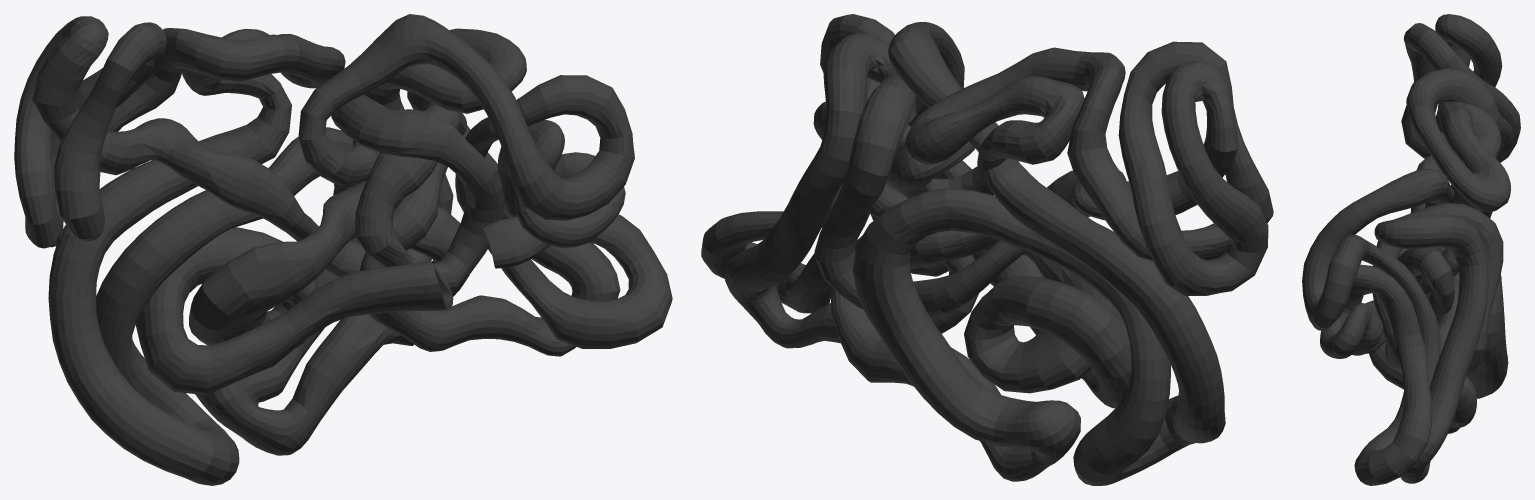
File: jejunum_LP.glb
3 views of the same model, side by side, from view 1: azimuth 30°, elevation 25°; view 2: azimuth 150°, elevation 25°; view 3: azimuth 270°, elevation 25° (orthographic). The views are drawn at different scales.
Parts seen in each view (by area): view 1: jejunum_LP; view 2: jejunum_LP; view 3: jejunum_LP.
Boxes of the visible parts, x1,y1,x2,y2 form: jejunum_LP: (14, 14, 672, 485); jejunum_LP: (701, 14, 1273, 485); jejunum_LP: (1302, 14, 1520, 485).
Bounding box in the file's own units: 0.0141 × 0.0105 × 0.00599.
1 material, 1 textured.
